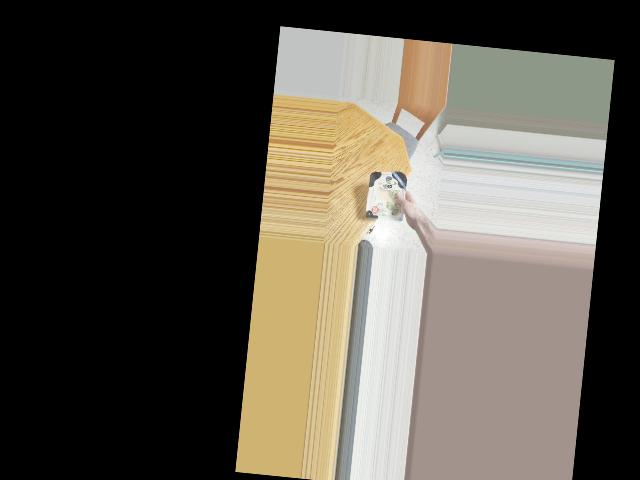cheese: (365, 168, 410, 224)
